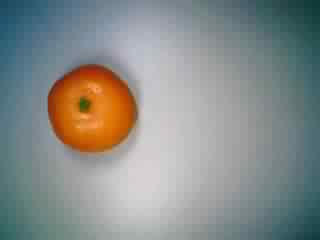orange: (44, 60, 140, 156)
